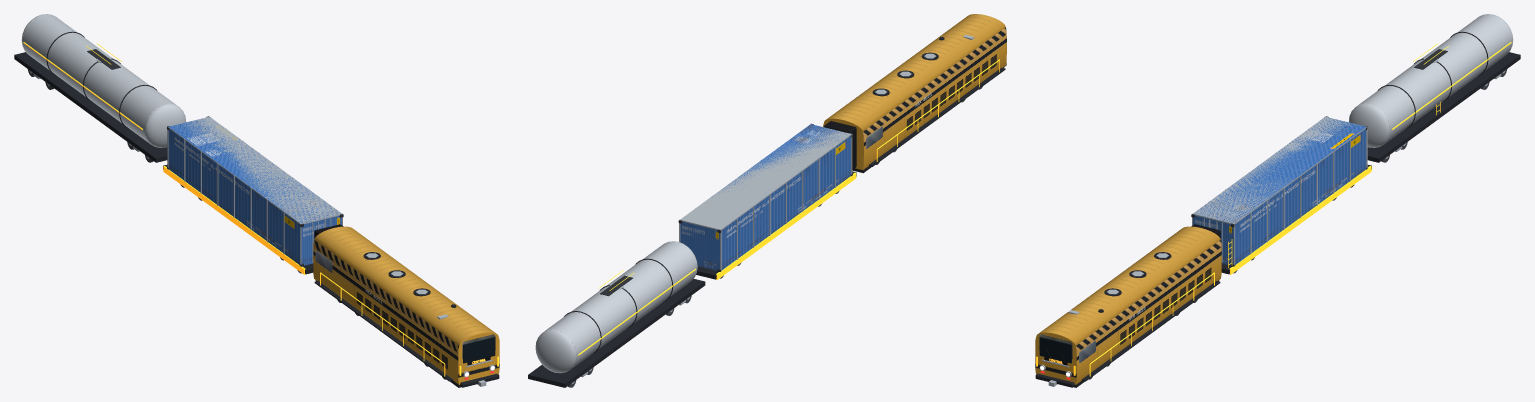
File: train_freight.glb
The picture shows the model from 3 angles, left to right: view 1: azimuth 30°, elevation 25°; view 2: azimuth 150°, elevation 25°; view 3: azimuth 330°, elevation 25°; orthographic projection.
Parts seen in each view (by area): view 1: Train_freight_3_Container, Train_freight_3_Tank, Train_freight_3_TrainMetal, Train_freight_3_TrainRoof_freight, Train_freight_3_TrainSide_freight, Train_freight_3_TrainDark, Train_freight_3_TrainReflector, Train_freight_3_TrainFront_freight, Train_freight_3_TrainGlass; view 2: Train_freight_3_Tank, Train_freight_3_Container, Train_freight_3_TrainMetal, Train_freight_3_TrainRoof_freight, Train_freight_3_TrainSide_freight, Train_freight_3_TrainDark, Train_freight_3_TrainReflector, Train_freight_3_TrainBody_freight, Train_freight_3_TrainRubber; view 3: Train_freight_3_Container, Train_freight_3_Tank, Train_freight_3_TrainRoof_freight, Train_freight_3_TrainSide_freight, Train_freight_3_TrainMetal, Train_freight_3_TrainDark, Train_freight_3_TrainReflector, Train_freight_3_TrainFront_freight, Train_freight_3_TrainGlass.
Part boxes in pixels (x1,y1,x2,y2): Train_freight_3_Container: [168, 118, 341, 265]; Train_freight_3_Tank: [21, 14, 186, 147]; Train_freight_3_TrainMetal: [29, 56, 495, 386]; Train_freight_3_TrainRoof_freight: [314, 226, 495, 345]; Train_freight_3_TrainSide_freight: [313, 240, 458, 384]; Train_freight_3_TrainDark: [14, 31, 499, 387]; Train_freight_3_TrainReflector: [23, 42, 498, 376]; Train_freight_3_TrainFront_freight: [458, 332, 499, 384]; Train_freight_3_TrainGlass: [463, 337, 495, 363]; Train_freight_3_Tank: [535, 241, 697, 373]; Train_freight_3_Container: [680, 124, 850, 270]; Train_freight_3_TrainMetal: [571, 34, 974, 383]; Train_freight_3_TrainRoof_freight: [826, 14, 1005, 131]; Train_freight_3_TrainSide_freight: [863, 27, 1006, 169]; Train_freight_3_TrainDark: [528, 37, 1006, 387]; Train_freight_3_TrainReflector: [578, 59, 999, 355]; Train_freight_3_TrainBody_freight: [823, 118, 863, 169]; Train_freight_3_TrainRubber: [824, 121, 856, 169]; Train_freight_3_Container: [1193, 117, 1366, 265]; Train_freight_3_Tank: [1348, 14, 1513, 147]; Train_freight_3_TrainRoof_freight: [1039, 226, 1220, 345]; Train_freight_3_TrainSide_freight: [1076, 240, 1221, 384]; Train_freight_3_TrainMetal: [1039, 56, 1505, 386]; Train_freight_3_TrainDark: [1035, 31, 1520, 387]; Train_freight_3_TrainReflector: [1036, 42, 1511, 376]; Train_freight_3_TrainFront_freight: [1035, 332, 1076, 384]; Train_freight_3_TrainGlass: [1039, 337, 1071, 363].
Size of the model in its own units: 2.74 by 3.31 by 43.5.
Materials: 15 (4 with a texture image).
